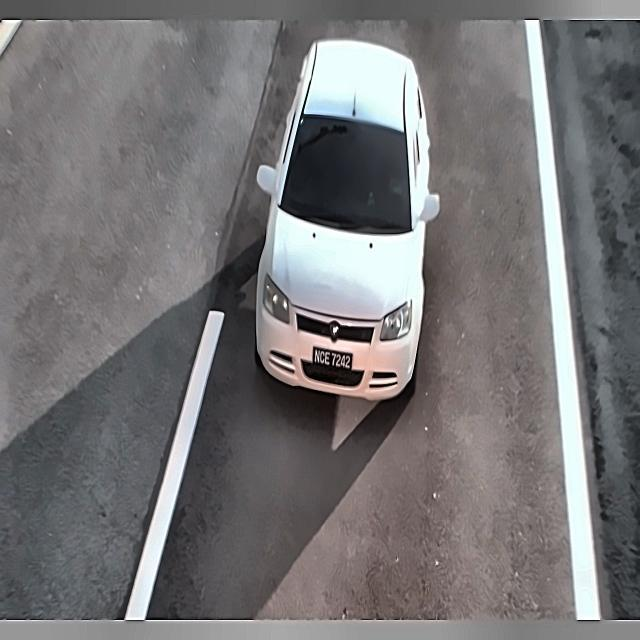car: (304, 337, 364, 374)
